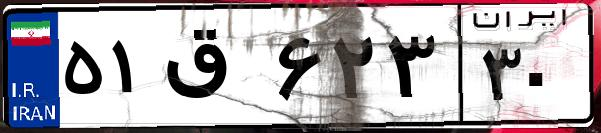0: (525, 38, 570, 115)
1: (110, 28, 158, 98)
2: (330, 28, 385, 110)
3: (385, 28, 445, 110), (475, 38, 525, 113)
5: (57, 26, 110, 100)
6: (270, 28, 330, 110)
ق: (158, 20, 270, 120)
